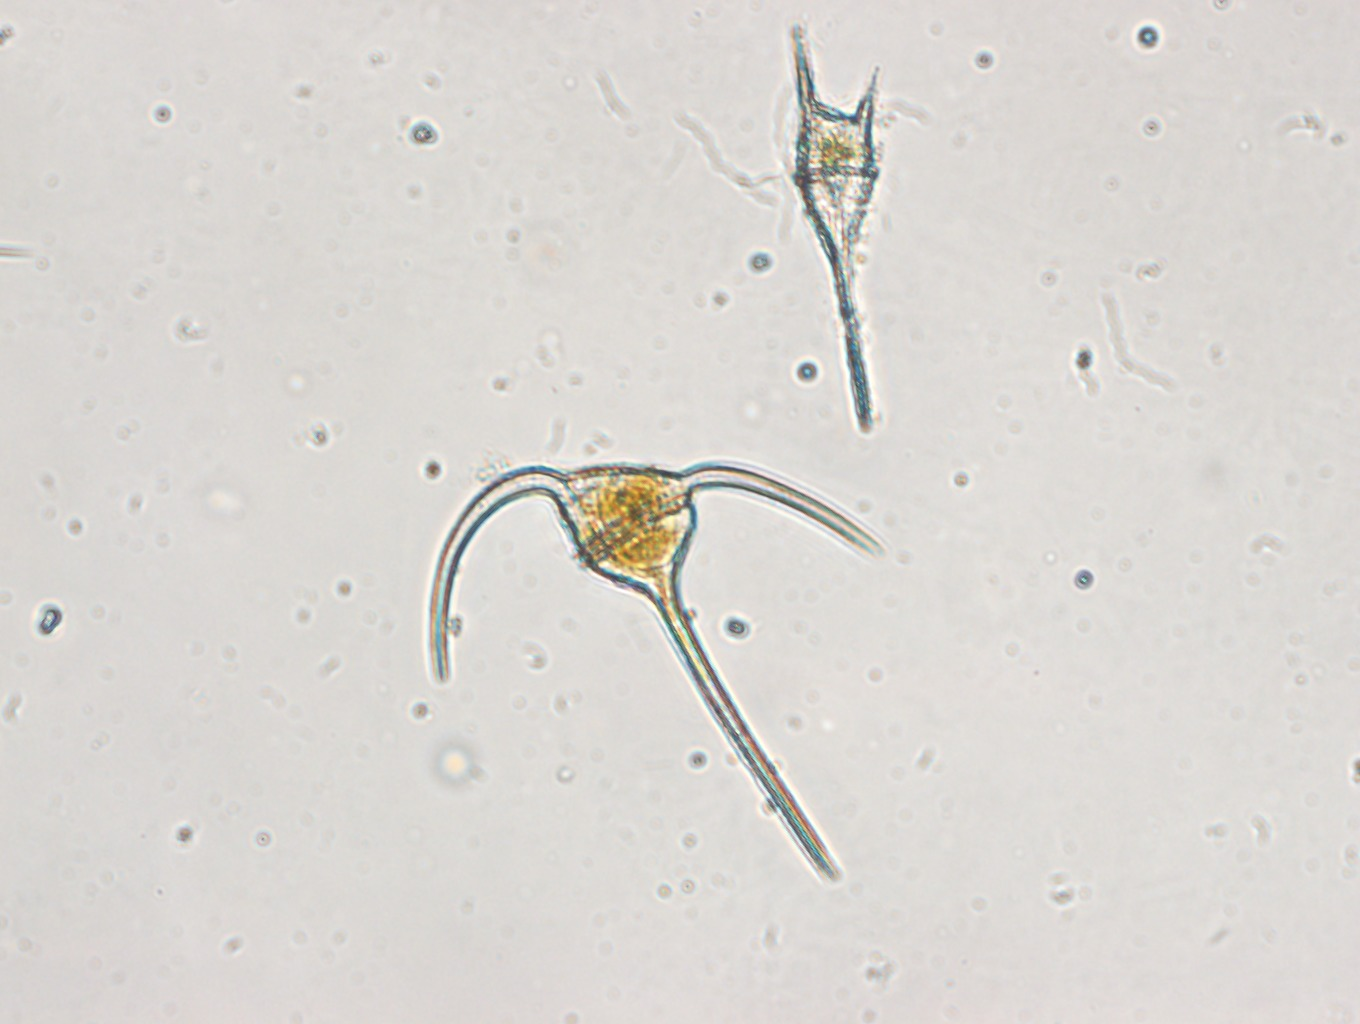ceratium furca: (775, 18, 906, 435)
ceratium trichoceros: (419, 453, 894, 883)
